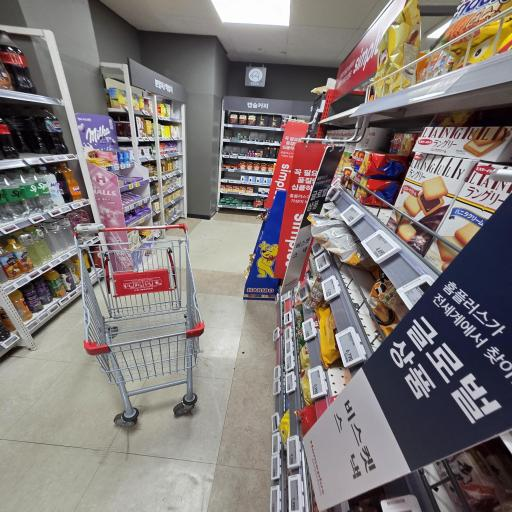empty_cart: (79, 223, 207, 430)
